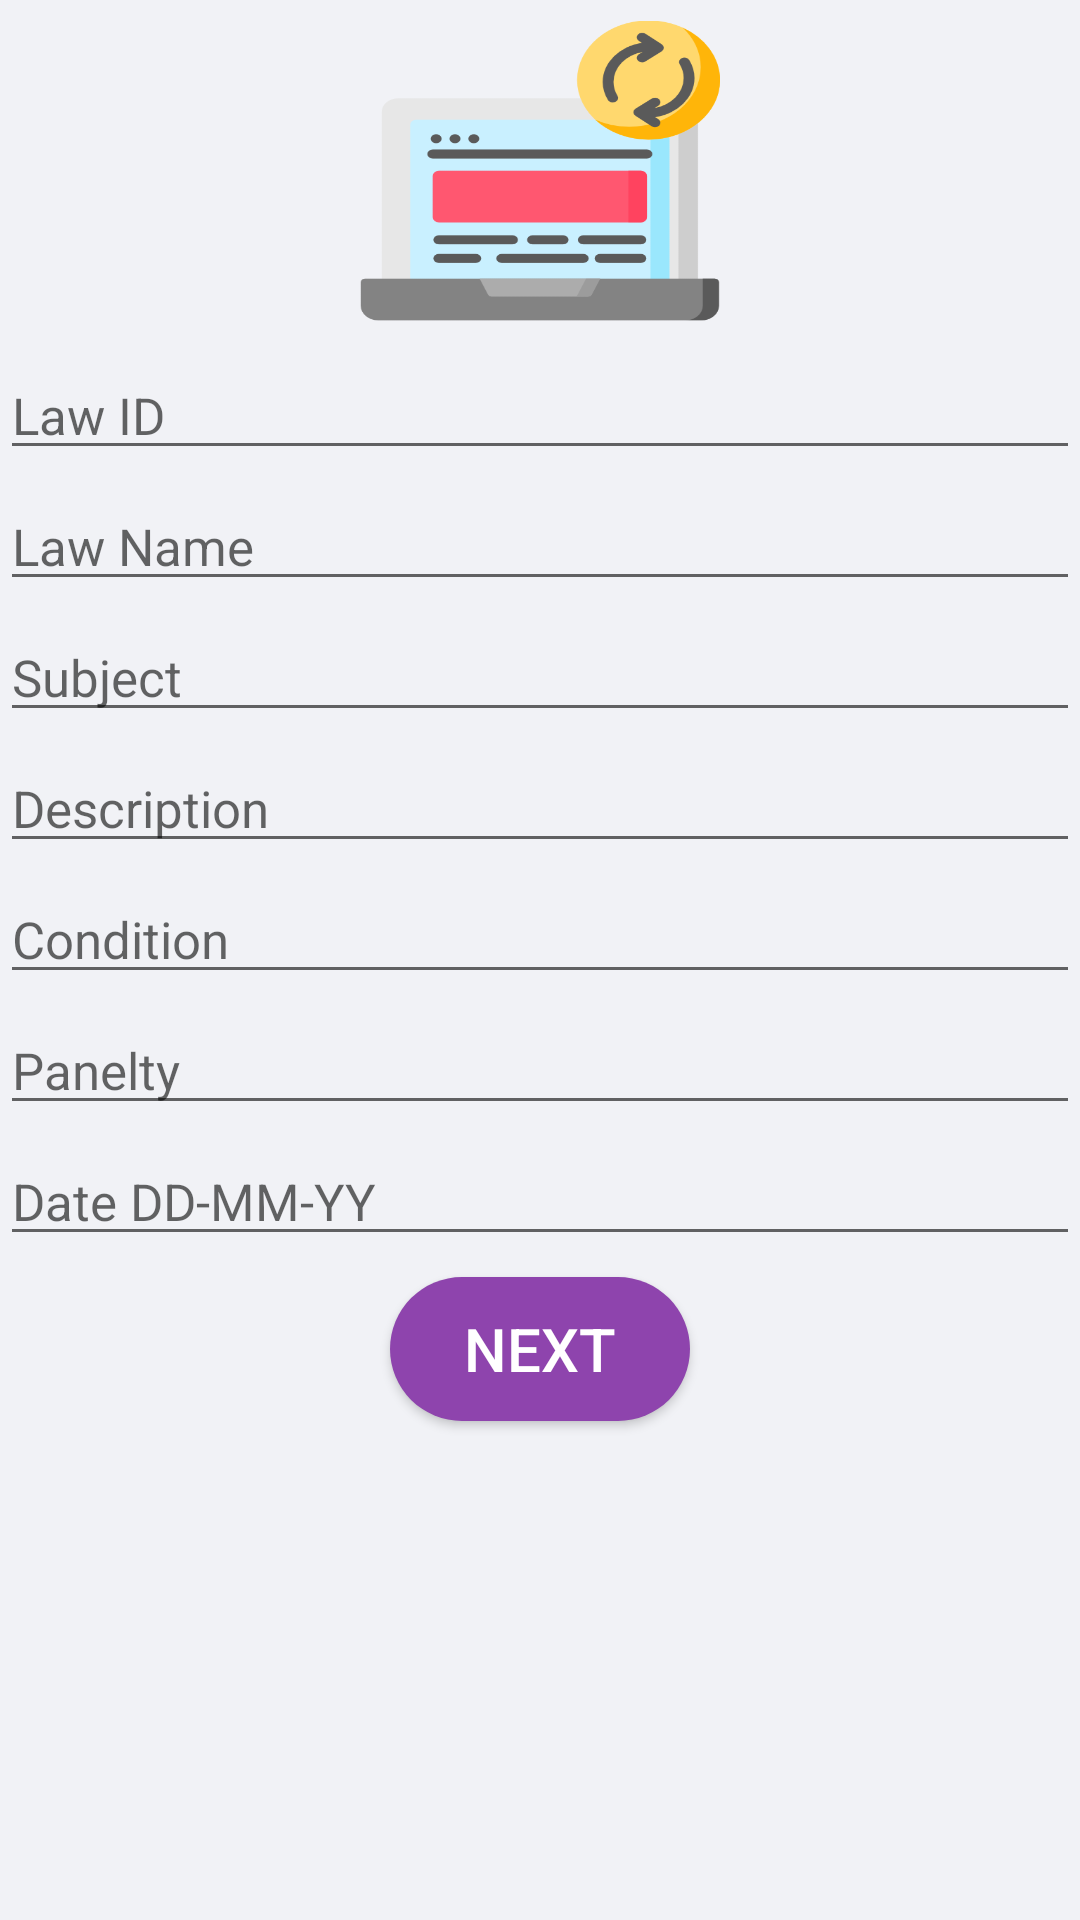

Named icons in this screenshot (1080 × 1920) and their bounding boxes, (x1, y1, x2, y2):
update data: (360, 21, 720, 321)
